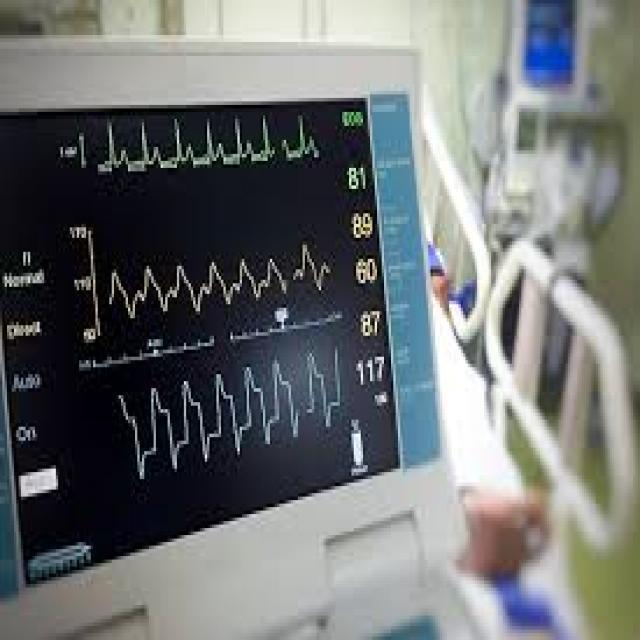cardiac_monitor: (4, 43, 443, 613)
